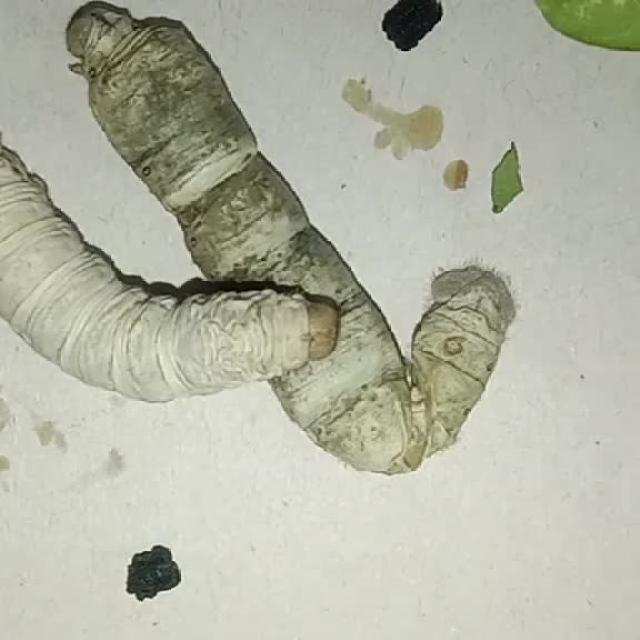Grasserie: (69, 5, 511, 478)
